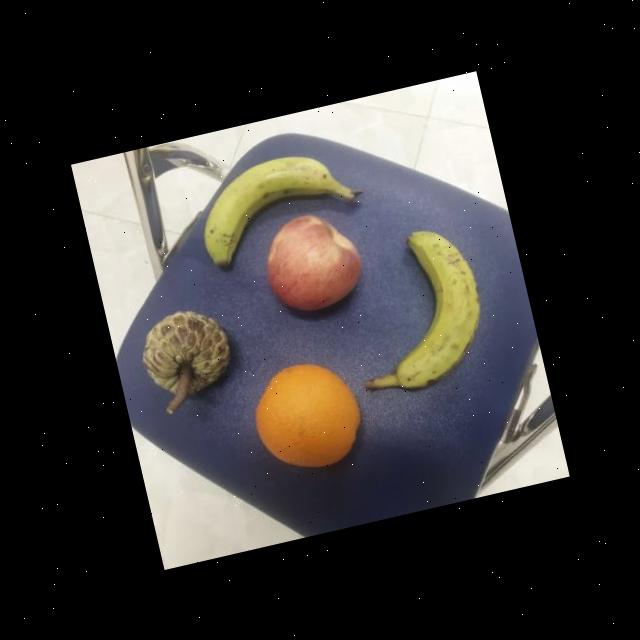Sakya fruit: (126, 301, 241, 412)
apple: (252, 200, 375, 326)
banana: (360, 214, 505, 398), (185, 142, 354, 268)
orange: (240, 351, 370, 485)
